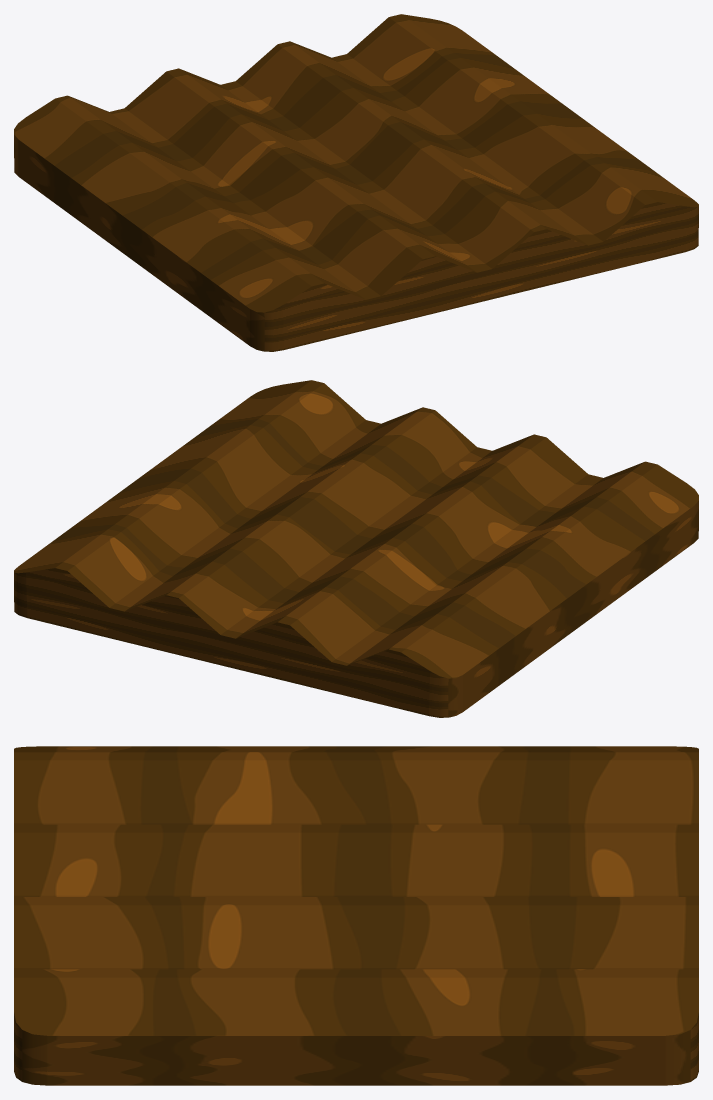
Rendered from Mud.FBX.
3 views of the same model, one above another, from view 1: azimuth 30°, elevation 25°; view 2: azimuth 150°, elevation 25°; view 3: azimuth 270°, elevation 25° (orthographic). The views are drawn at different scales.
Size of the model in its own units: 10.16 by 1.24 by 10.16.
1 material, 1 textured.
